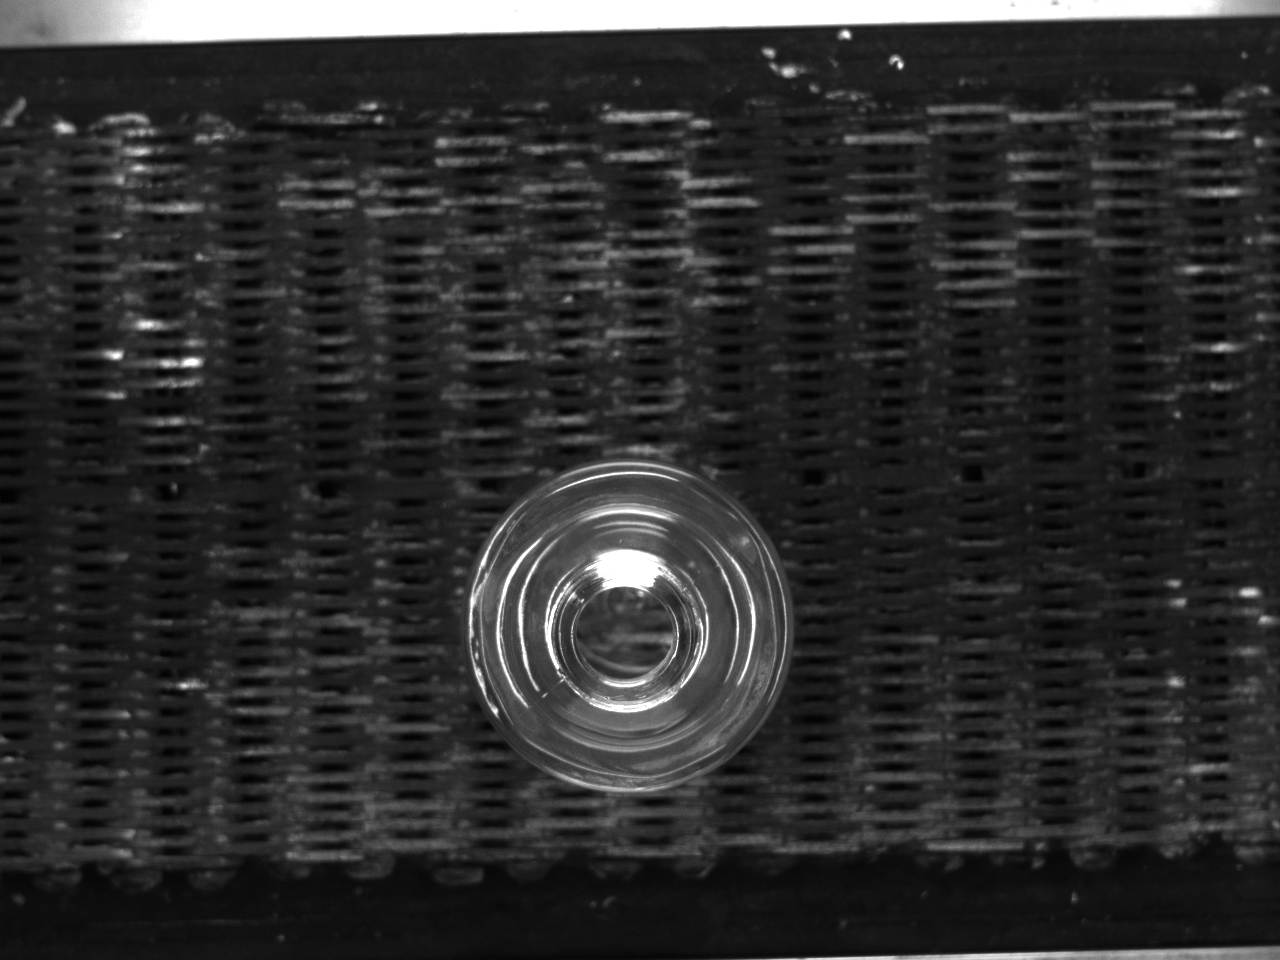bottleneck: (548, 548, 708, 712)
